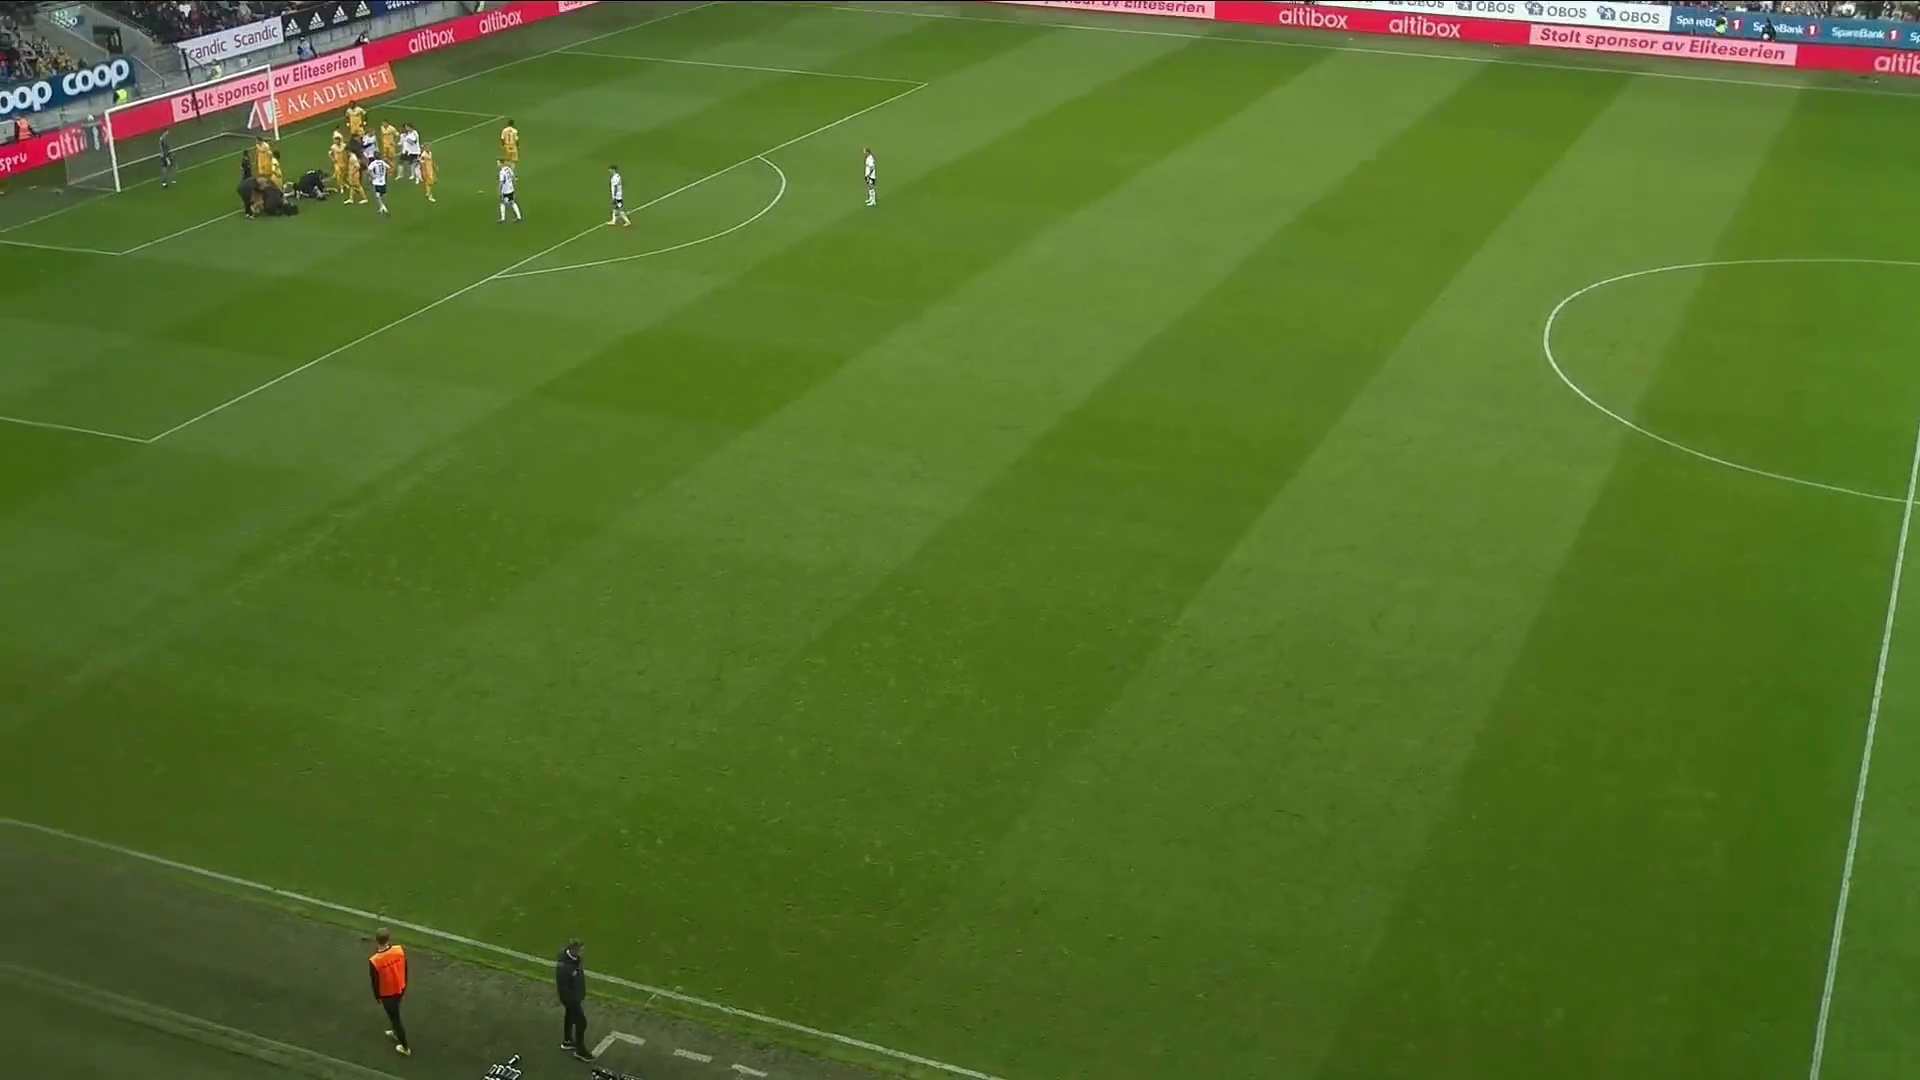player: (236, 150, 264, 221), (367, 152, 393, 217), (496, 159, 522, 223), (342, 146, 369, 206), (397, 122, 423, 184), (607, 164, 632, 227), (251, 135, 276, 194), (328, 133, 349, 195), (418, 143, 439, 203), (379, 119, 401, 176), (157, 128, 177, 189), (360, 129, 378, 189), (345, 101, 367, 149), (500, 118, 520, 170), (863, 147, 878, 207), (271, 151, 286, 203)
